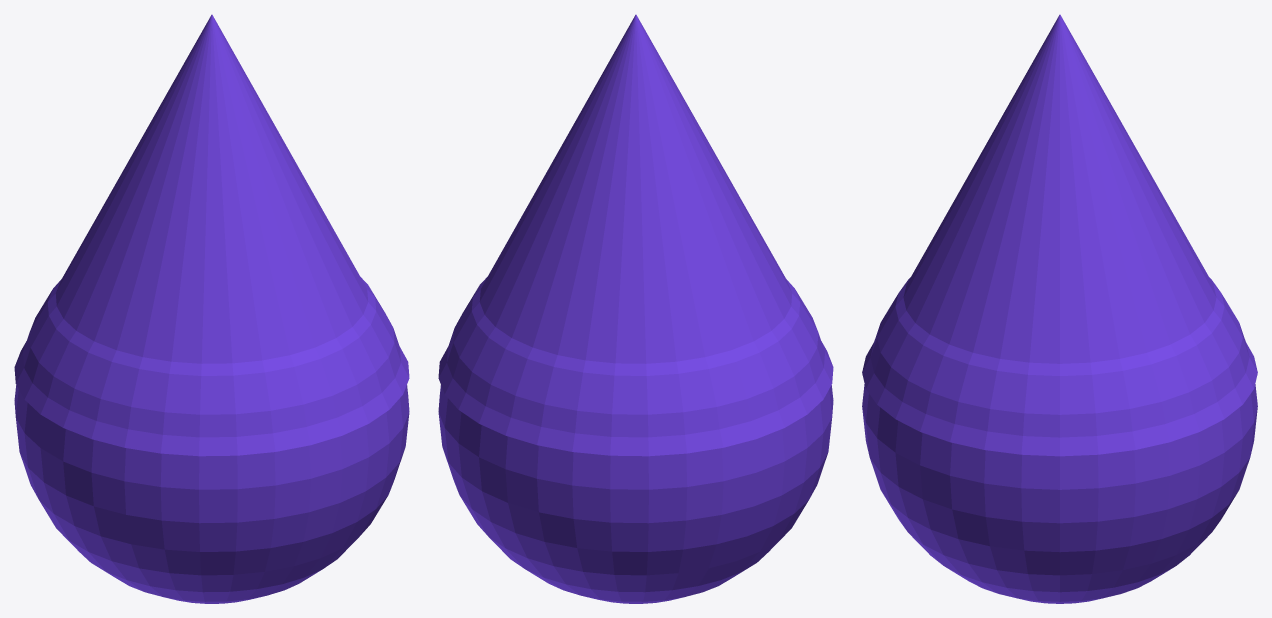
Rendered from tear.fbx.
3 renders of one model, left to right at view 1: azimuth 30°, elevation 25°; view 2: azimuth 150°, elevation 25°; view 3: azimuth 270°, elevation 25°, orthographic.
Parts seen in each view (by area): view 1: Sphere, Cone; view 2: Sphere, Cone; view 3: Sphere, Cone.
Boxes of the visible parts, <box> form: Sphere: <box>14,277,409,603</box>; Cone: <box>14,14,409,456</box>; Sphere: <box>438,277,833,603</box>; Cone: <box>438,14,833,456</box>; Sphere: <box>862,277,1257,603</box>; Cone: <box>862,14,1257,456</box>.
Size of the model in its own units: 200 by 319 by 200.
